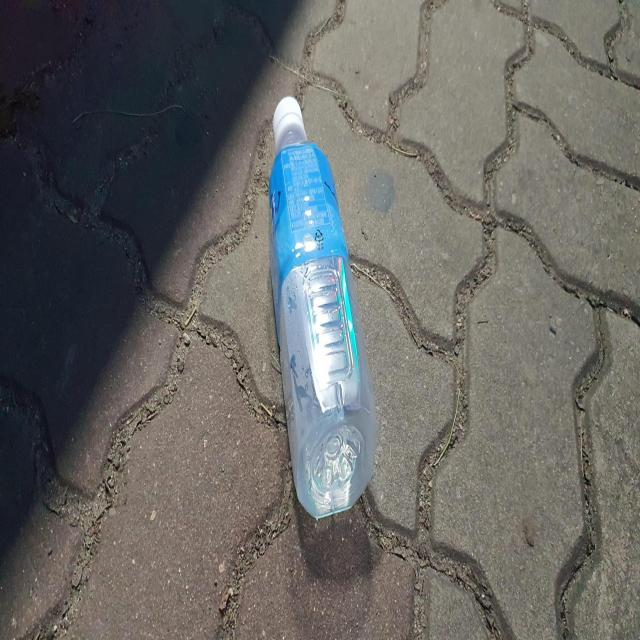plastic: (269, 95, 377, 519)
